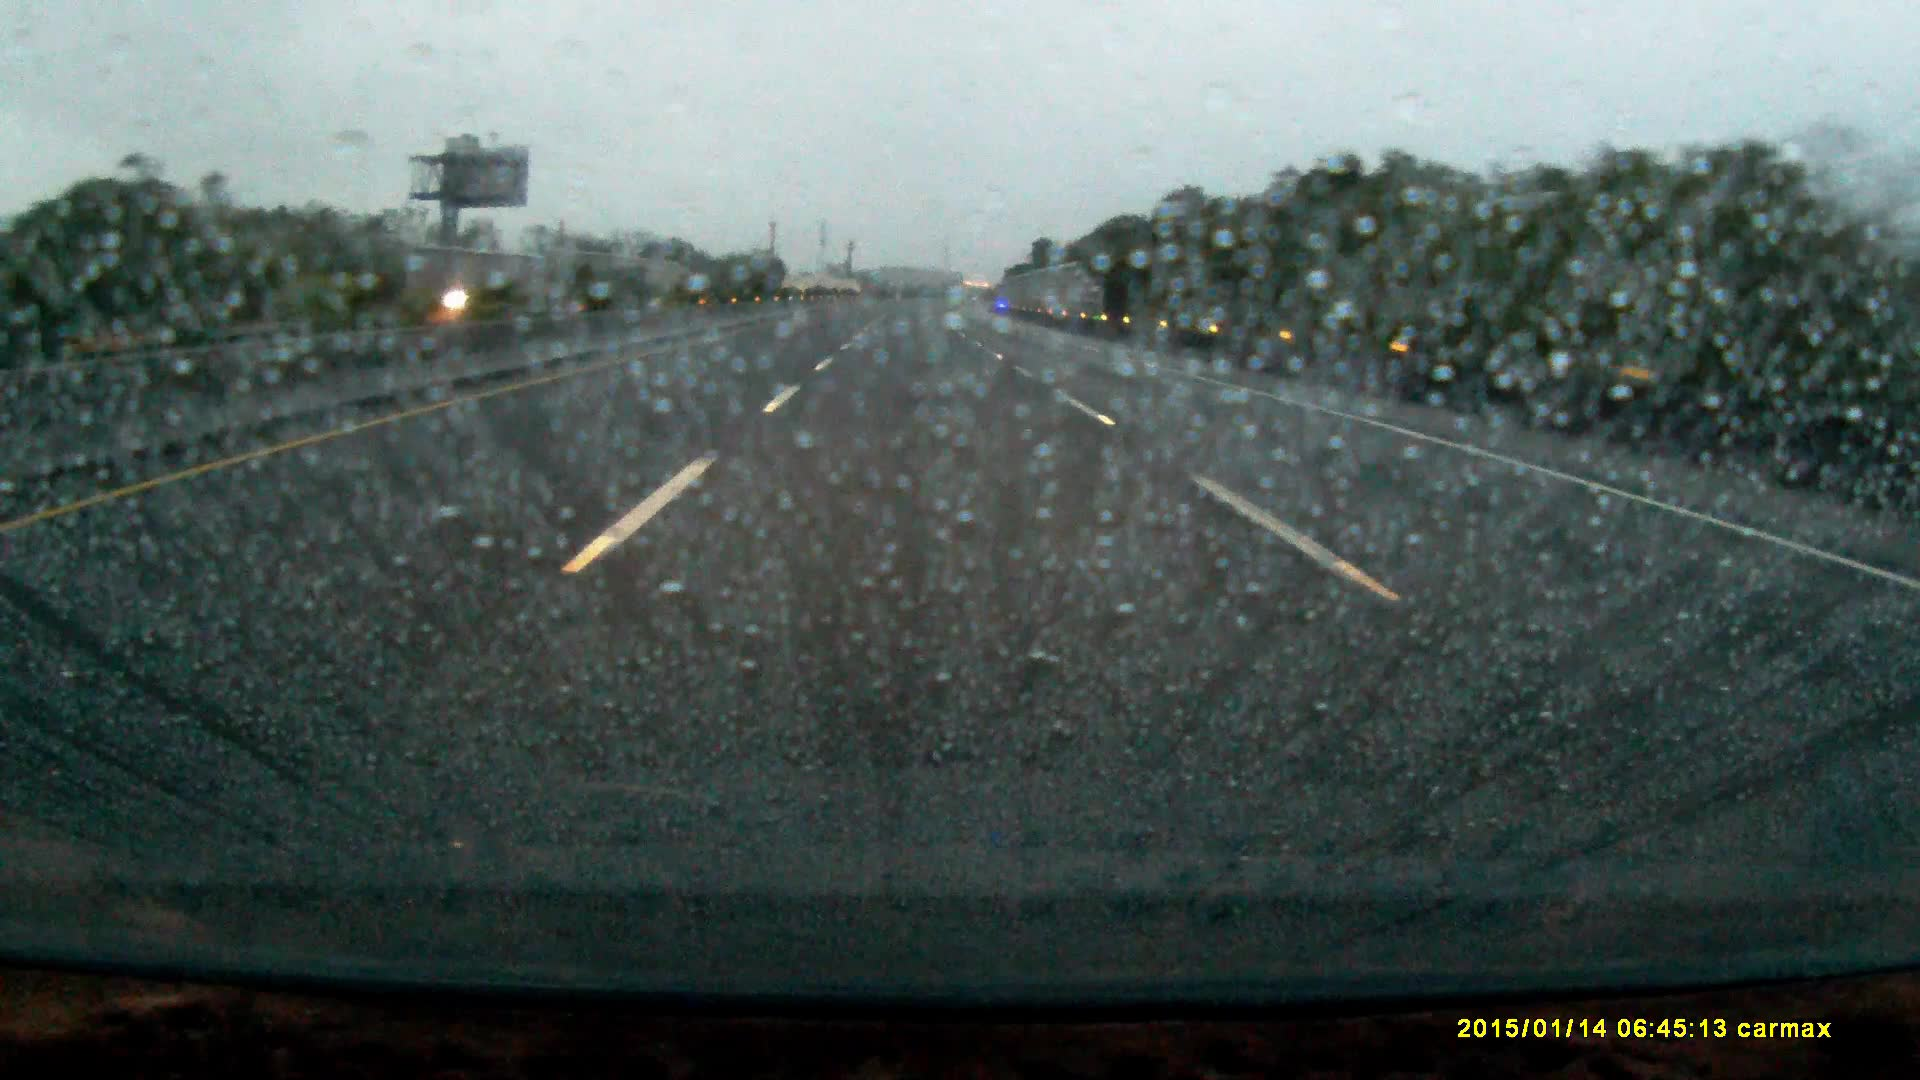vehicle: (421, 268, 535, 313)
